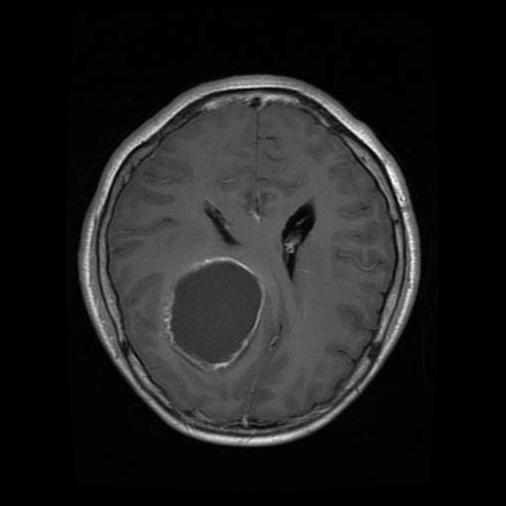Tumour-Glioma: (161, 257, 274, 371)
